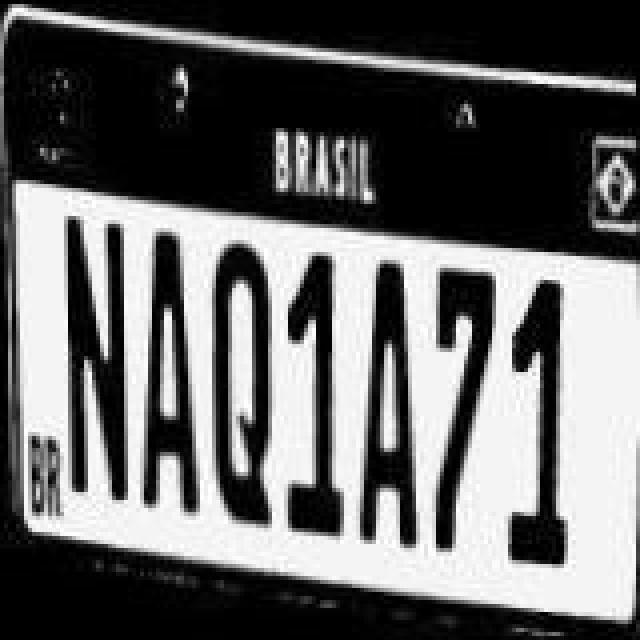1: (500, 274, 576, 558), (280, 246, 348, 542)
7: (428, 260, 504, 548)
A: (138, 218, 214, 518), (360, 262, 428, 546)
N: (58, 212, 134, 516)
Q: (212, 226, 284, 526)
